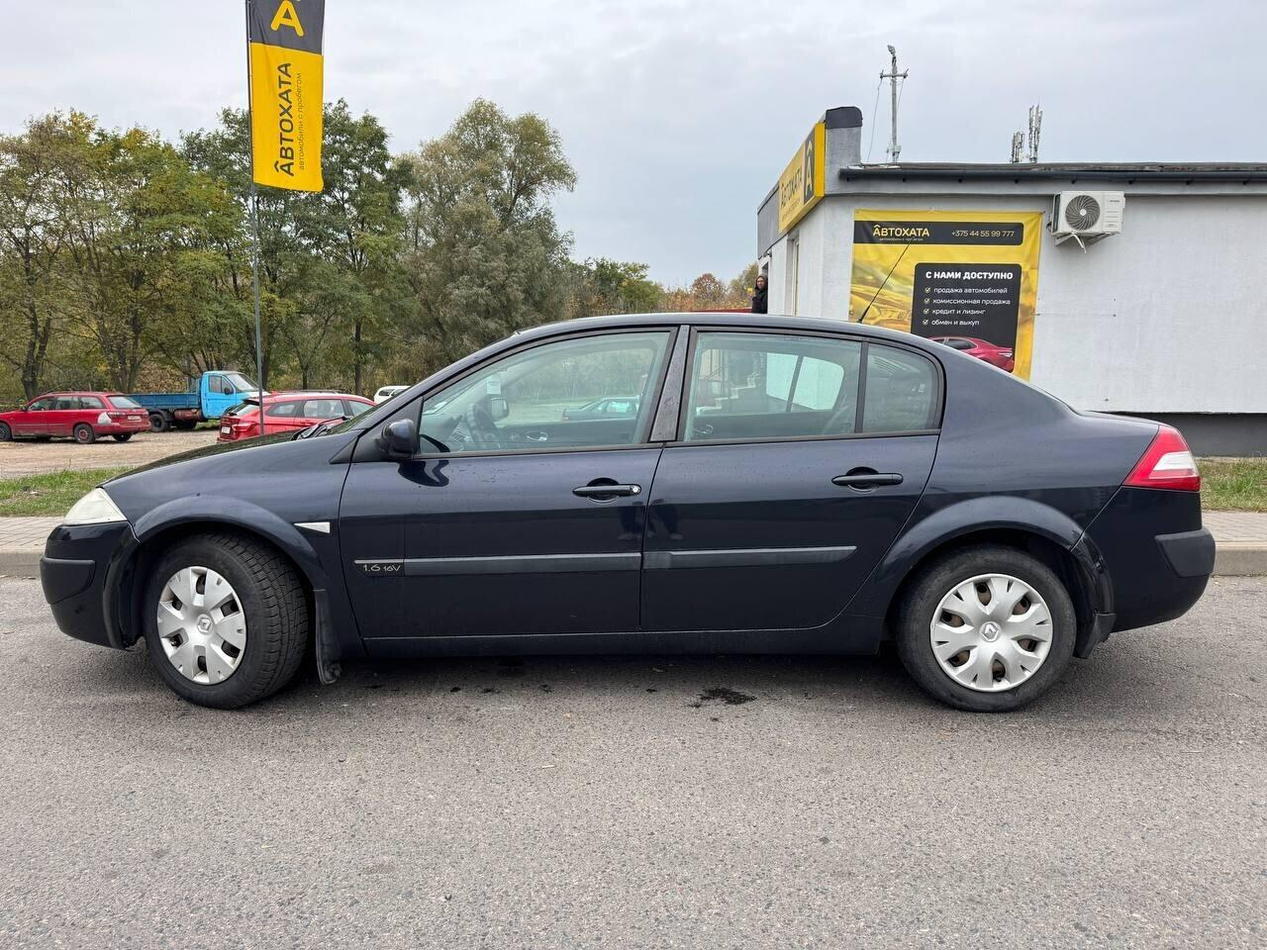Megane_2005-2009: (35, 309, 1219, 725)
